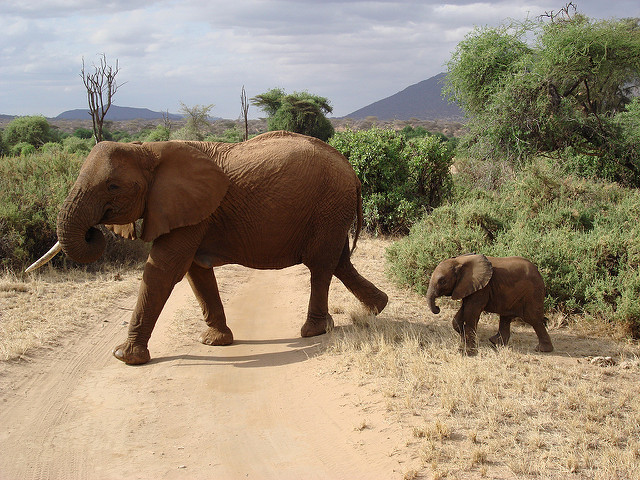elephant: (21, 125, 398, 366), (420, 247, 563, 360)
